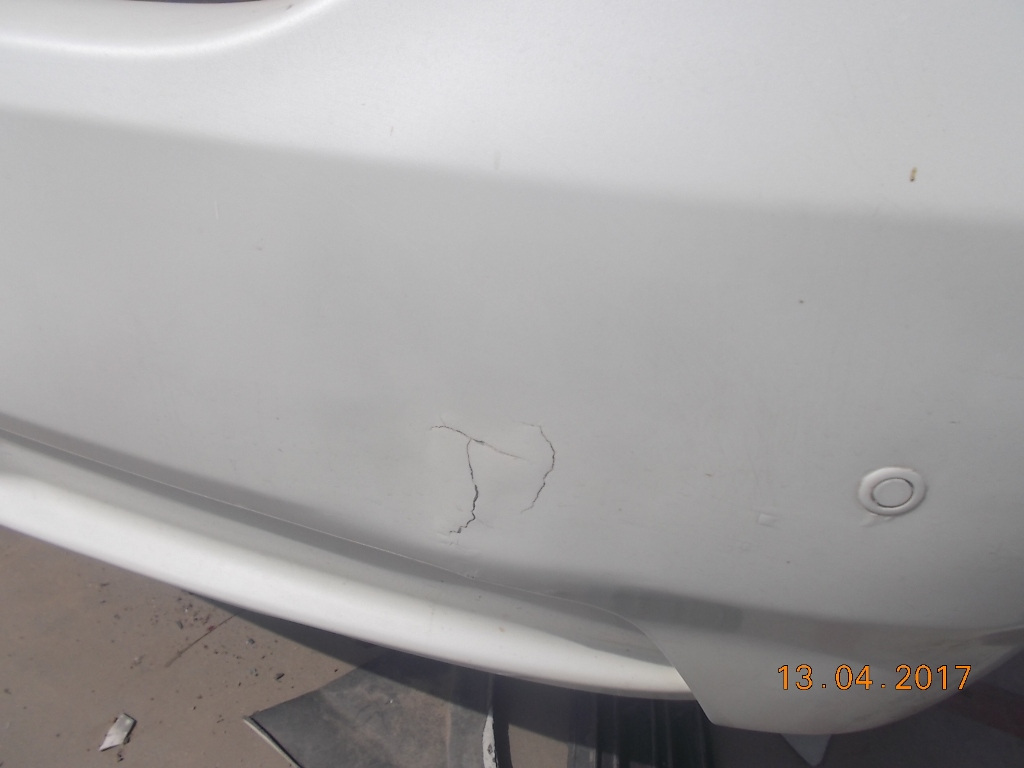Scratch_or_spot: (441, 426, 511, 554), (523, 414, 573, 533)
